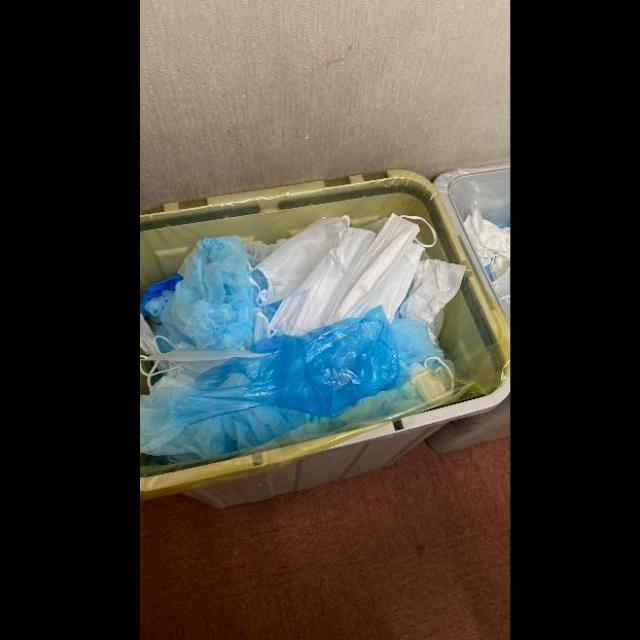giay: (394, 259, 467, 339)
khau_trang: (324, 213, 437, 326), (269, 228, 377, 336), (250, 215, 351, 306), (140, 351, 269, 377)
tui_ni_long: (172, 305, 400, 427)
